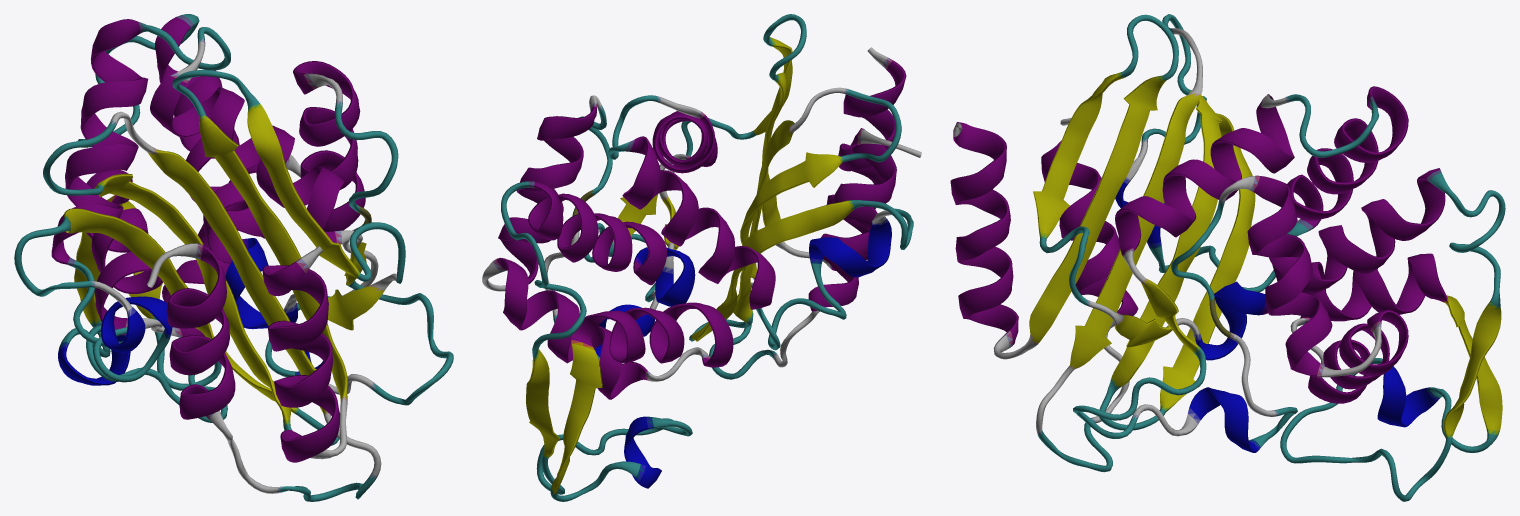
Rendered from animate.0003.obj.
The picture shows the model from 3 angles, left to right: view 1: azimuth 30°, elevation 25°; view 2: azimuth 150°, elevation 25°; view 3: azimuth 270°, elevation 25°; orthographic projection. The views are drawn at different scales.
Parts seen in each view (by area): view 1: vmd_mol0_rep0; view 2: vmd_mol0_rep0; view 3: vmd_mol0_rep0.
Boxes of the visible parts, left/top/right/bottom form: vmd_mol0_rep0: left=14, top=14, right=453, bottom=501; vmd_mol0_rep0: left=482, top=14, right=921, bottom=501; vmd_mol0_rep0: left=950, top=14, right=1505, bottom=501.
Size of the model in its own units: 1.02 by 1.11 by 1.32.
